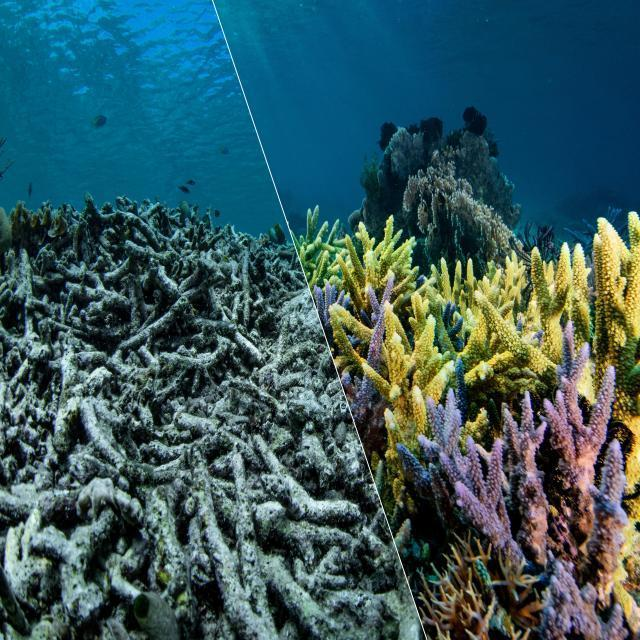Dead Coral: (0, 188, 294, 639)
